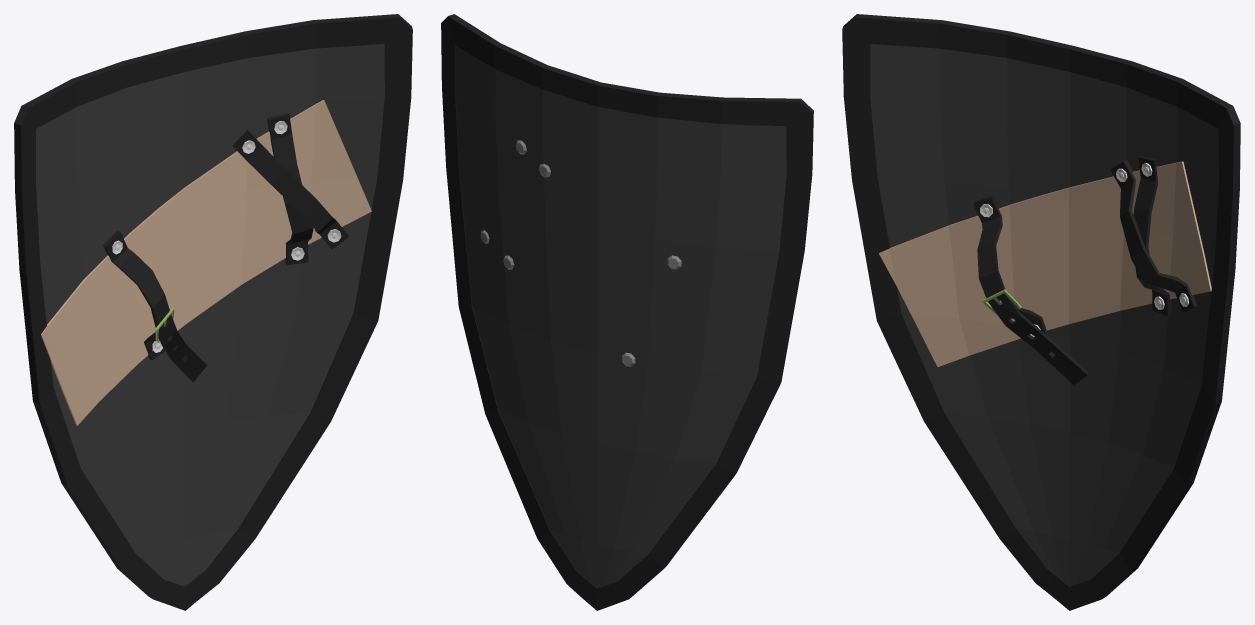
The model's file is heater shield.fbx.
The picture shows the model from 3 angles, left to right: view 1: azimuth 30°, elevation 25°; view 2: azimuth 150°, elevation 25°; view 3: azimuth 330°, elevation 25°; orthographic projection. The views are drawn at different scales.
Visible parts, largest first — view 1: Shield; view 2: Shield; view 3: Shield.
Part boxes in pixels (left/top/right/bottom): Shield: left=14, top=14, right=412, bottom=610; Shield: left=441, top=14, right=813, bottom=610; Shield: left=842, top=14, right=1240, bottom=610.
Bounding box in the file's own units: 0.5484 × 0.086 × 0.7495.
